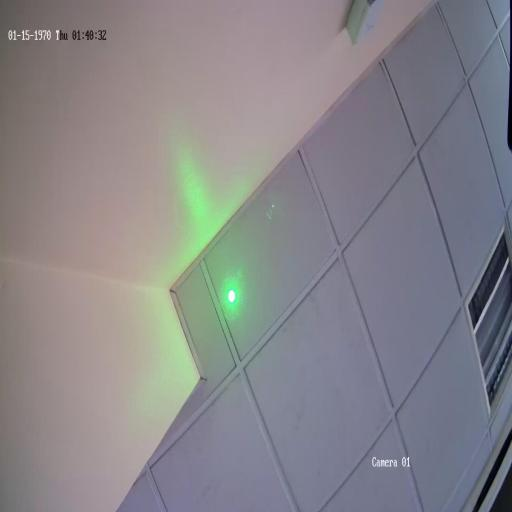laser: (216, 266, 248, 324)
